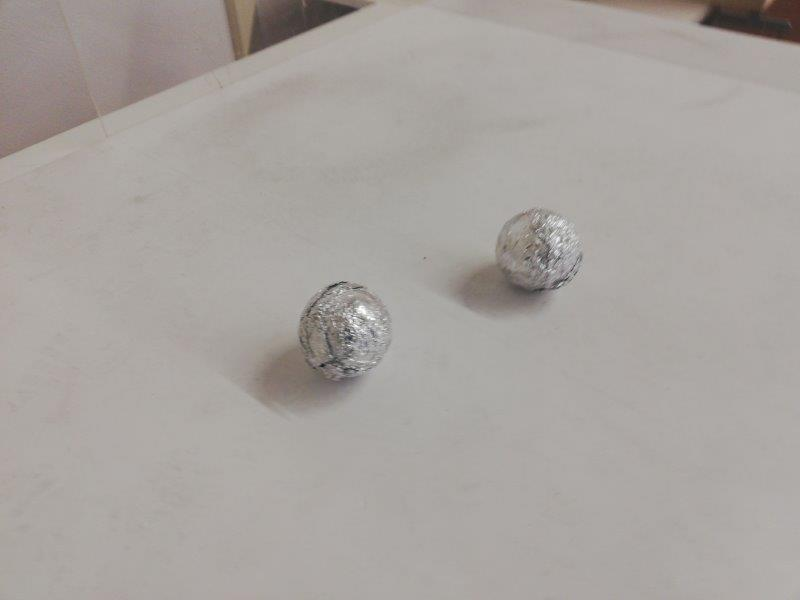bianca: (299, 280, 391, 380), (495, 206, 583, 291)
